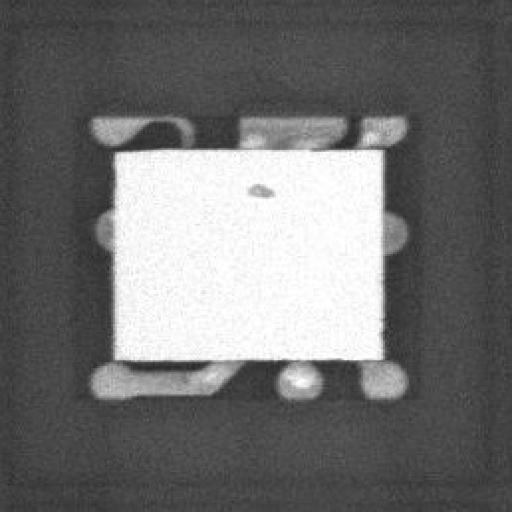DIE_INK: (231, 188, 262, 208)
